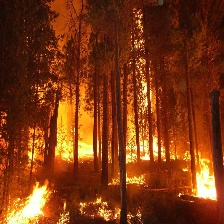fire: (52, 110, 97, 165), (133, 12, 157, 108), (4, 179, 55, 224), (186, 152, 220, 204), (75, 200, 144, 224), (123, 129, 164, 167), (108, 167, 148, 187)
